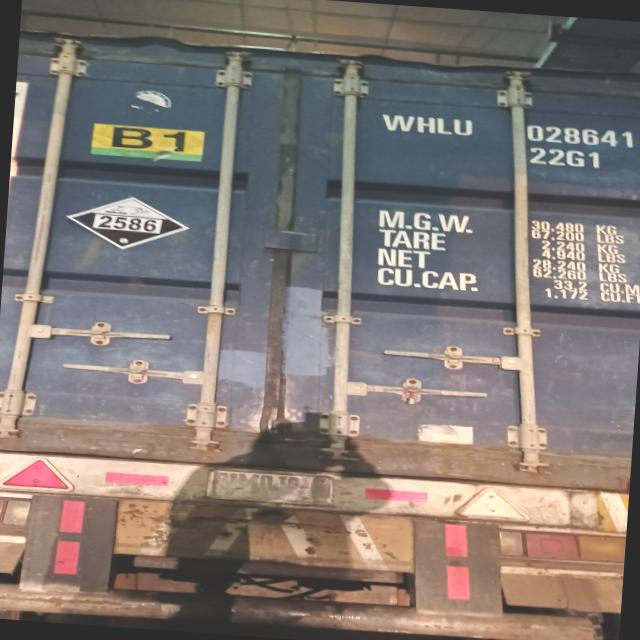seal: (398, 384, 422, 406)
